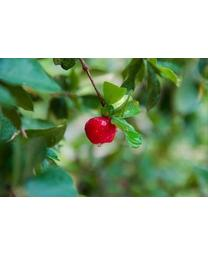cherry: (84, 116, 116, 144)
